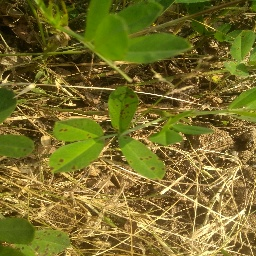GroundNut_Leaf: (115, 136, 164, 183), (47, 139, 108, 171), (104, 85, 145, 132), (97, 12, 129, 61), (33, 228, 72, 256), (229, 26, 256, 62), (1, 214, 31, 246), (52, 117, 102, 136), (1, 134, 36, 159)
